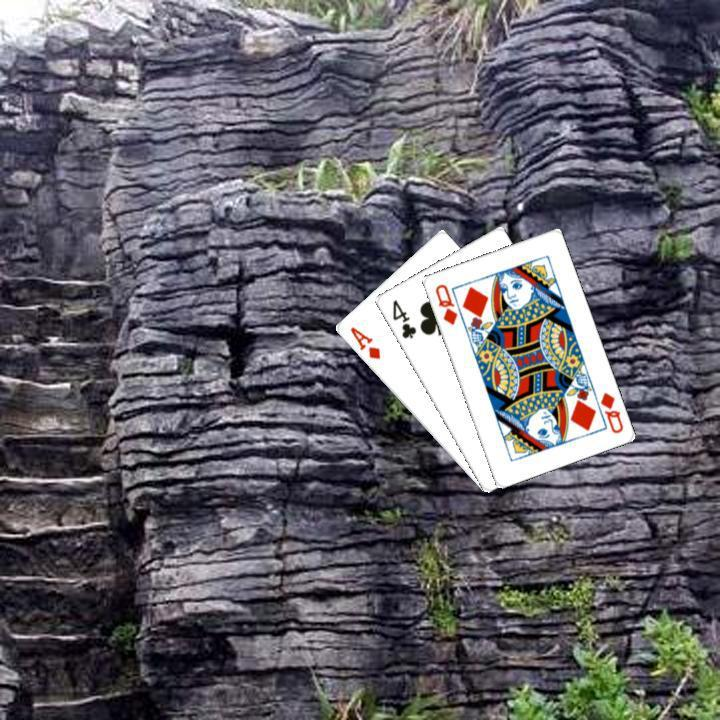4: (387, 295, 418, 341)
A: (345, 322, 382, 361)
Q: (595, 387, 625, 435), (430, 279, 459, 327)
